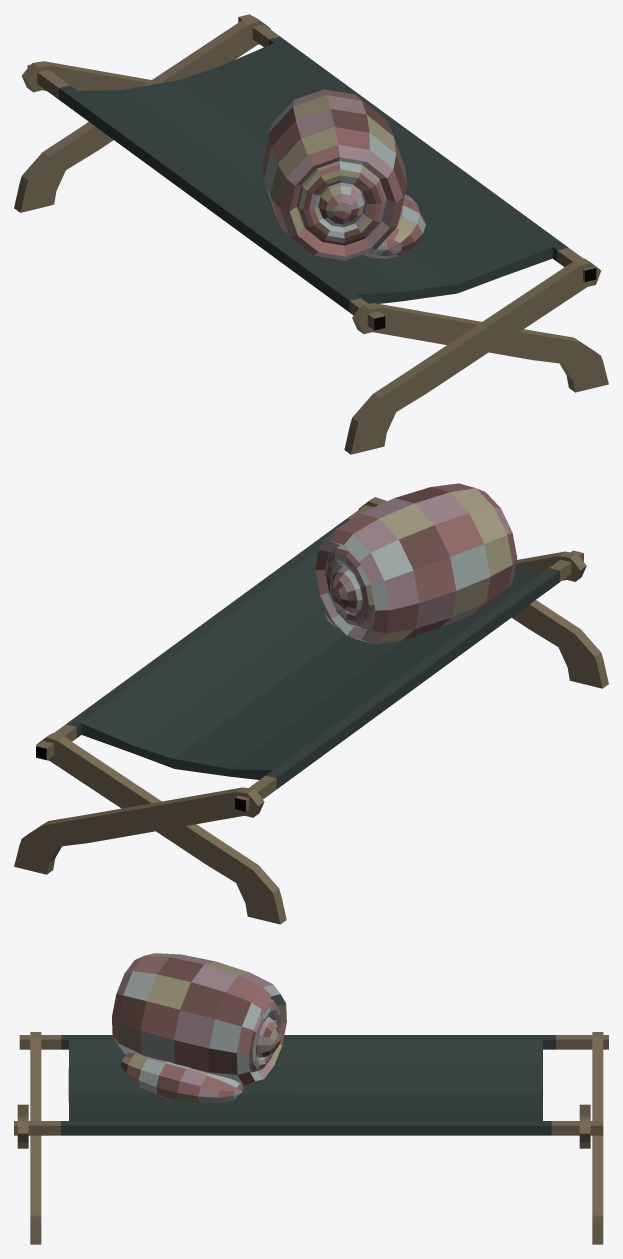
The model's file is Sleeping_cot1.glb.
3 renders of one model, top to bottom at view 1: azimuth 30°, elevation 25°; view 2: azimuth 150°, elevation 25°; view 3: azimuth 270°, elevation 25°, orthographic. The views are drawn at different scales.
Visible parts, largest first — view 1: group525752226, group1041837734, group1224999123, group802491558, group1037513086, group2041126463, group499535218, group215986146, group1577345827, group559781611, group2051142577; view 2: group525752226, group1041837734, group1577345827, group2041126463, group802491558, group215986146, group1224999123, group955491185, group911579974, group1037513086; view 3: group525752226, group1041837734, group215986146, group559781611, group802491558, group1577345827, group1037513086, group955491185, group911579974, group2041126463, group1224999123.
Boxes of the visible parts, x1,y1,x2,y2 form: group525752226: [78, 43, 552, 303]; group1041837734: [262, 89, 406, 260]; group1224999123: [344, 258, 601, 454]; group802491558: [27, 64, 385, 330]; group1037513086: [352, 303, 608, 392]; group2041126463: [14, 16, 270, 212]; group499535218: [296, 161, 386, 245]; group215986146: [238, 14, 596, 282]; group1577345827: [22, 61, 151, 92]; group559781611: [364, 194, 425, 258]; group2051142577: [318, 182, 364, 227]; group525752226: [81, 550, 543, 779]; group1041837734: [315, 483, 517, 644]; group1577345827: [14, 787, 264, 874]; group2041126463: [36, 733, 286, 924]; group802491558: [235, 550, 583, 811]; group215986146: [36, 505, 373, 760]; group1224999123: [358, 497, 608, 688]; group955491185: [324, 545, 375, 628]; group911579974: [330, 566, 362, 612]; group1037513086: [515, 551, 586, 581]; group525752226: [68, 1039, 542, 1120]; group1041837734: [112, 953, 286, 1085]; group215986146: [14, 1121, 603, 1135]; group559781611: [120, 1053, 244, 1102]; group802491558: [19, 1035, 608, 1049]; group1577345827: [592, 1032, 603, 1244]; group1037513086: [30, 1032, 41, 1244]; group955491185: [249, 998, 280, 1072]; group911579974: [256, 1017, 280, 1057]; group2041126463: [579, 1104, 590, 1148]; group1224999123: [17, 1104, 28, 1148].
Size of the model in its own units: 0.7105 by 0.6243 by 1.62.
